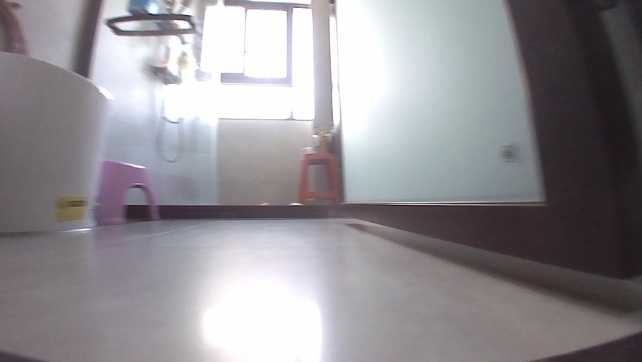door_anno: (322, 0, 641, 283)
door_sill: (127, 200, 339, 224)
plastic_stool: (94, 158, 161, 227)
toilet: (0, 49, 119, 237)
